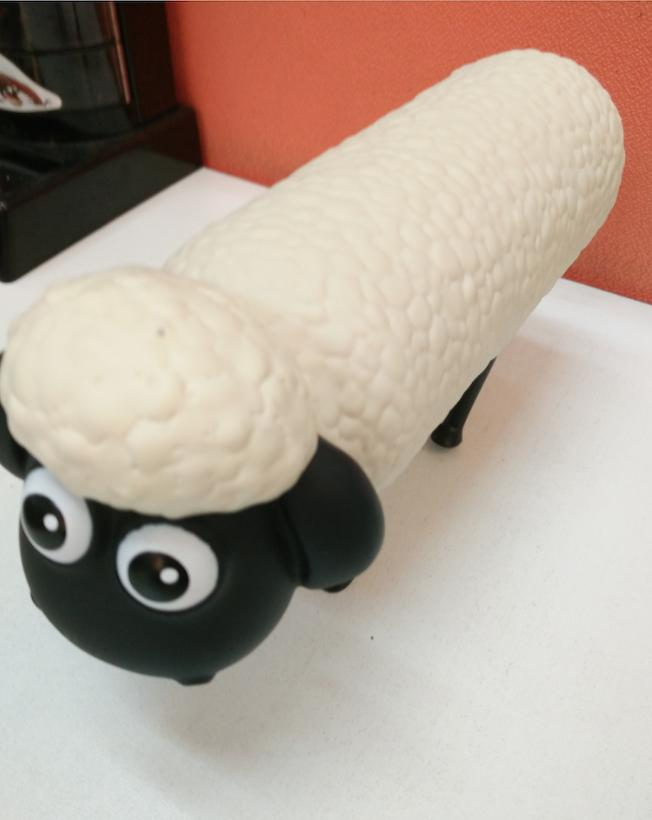ImgView: (1, 1, 651, 819)
